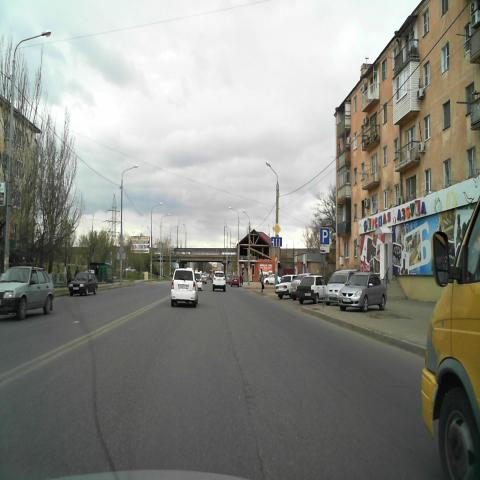2_1: (273, 222, 281, 236)
5_15_1: (271, 237, 282, 247)
6_4: (320, 226, 330, 244)
8_6_4: (320, 246, 330, 255)
